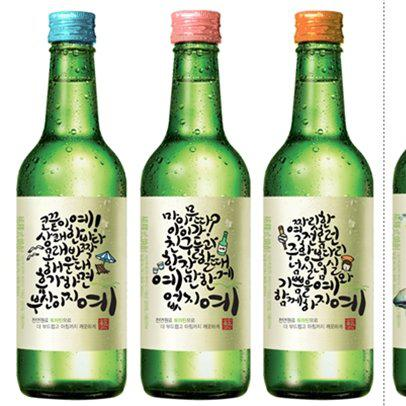soju: (13, 8, 377, 402)
